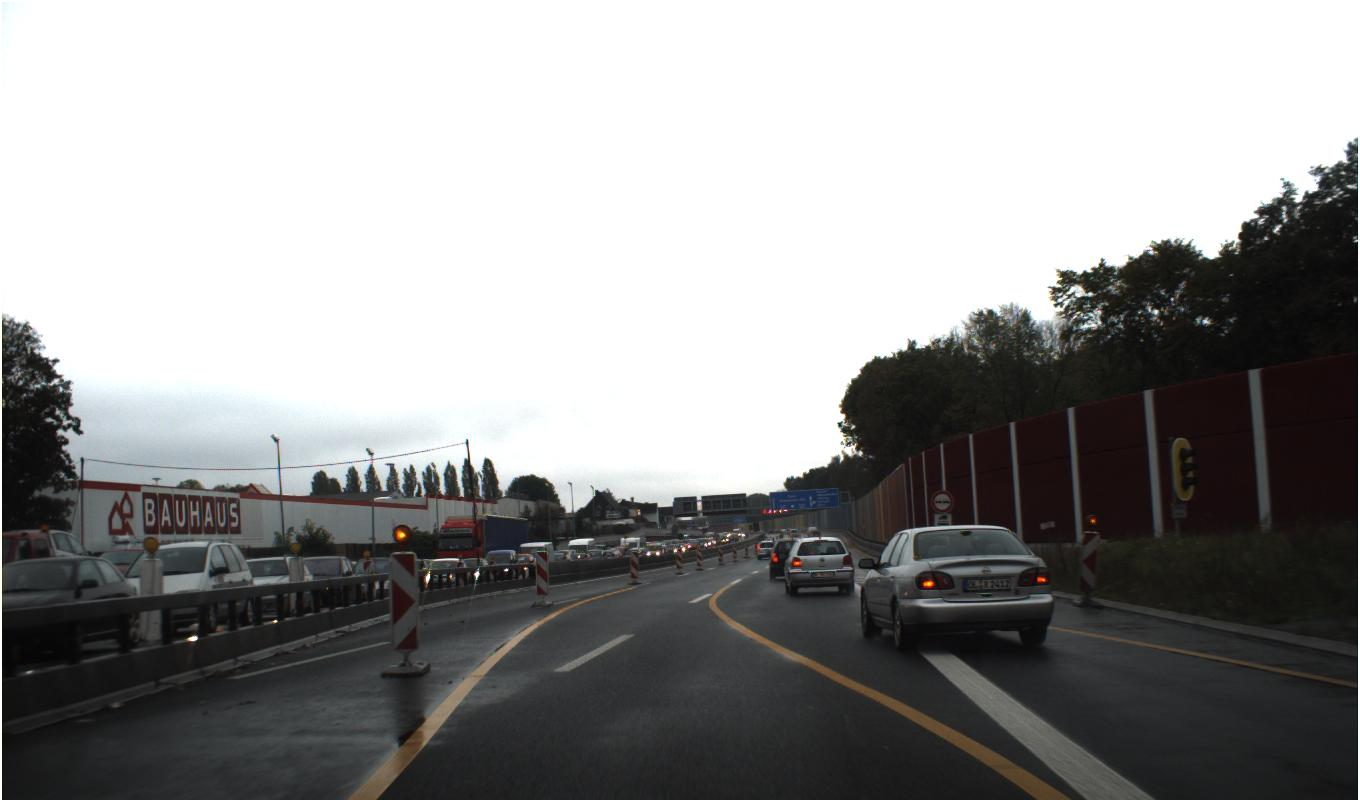prohibitory: (929, 489, 954, 513)
